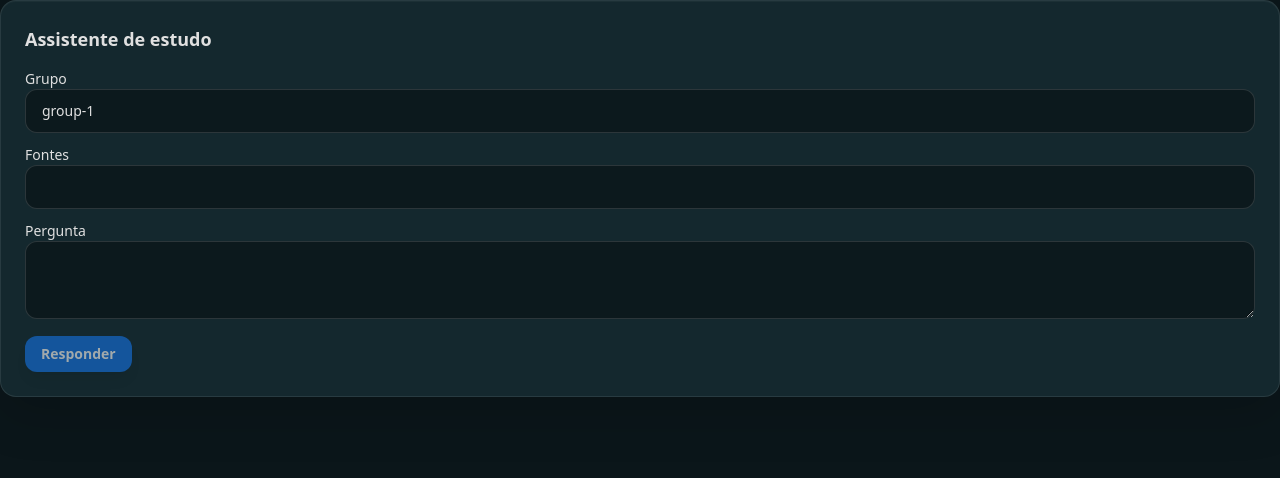
Test case: ações assíncronas dos painéis IA › mantém grupo, fontes e resposta no painel coletivo
The width and height of the screenshot is (1280, 478).
In the field labelled "Fontes": (640, 187) [25, 165, 1255, 209], type "share-1, share-2"
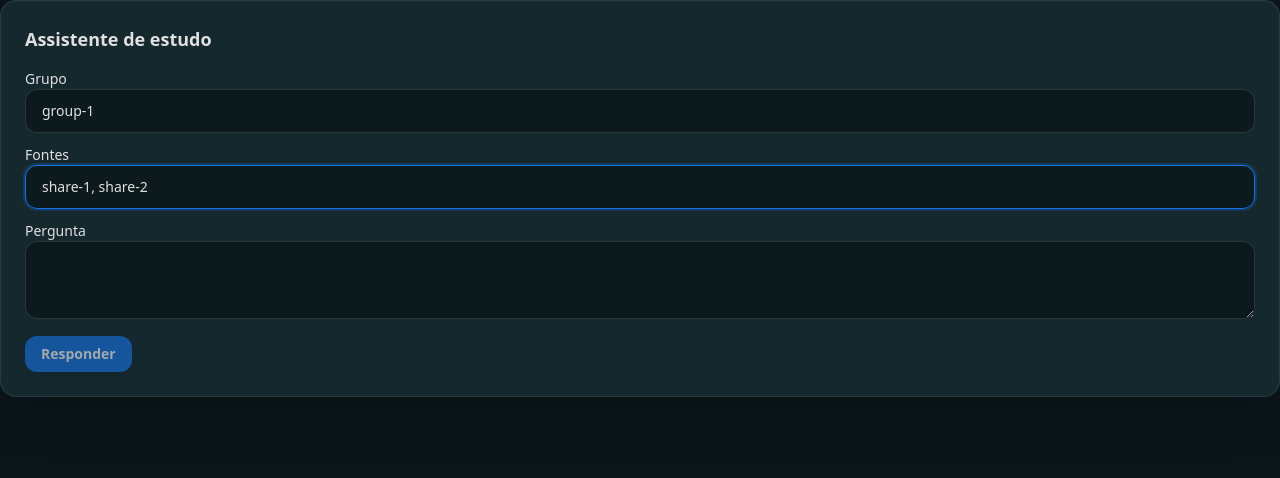
In the text box labelled "Pergunta": (640, 280) [25, 241, 1255, 319], type "Questão coletiva"
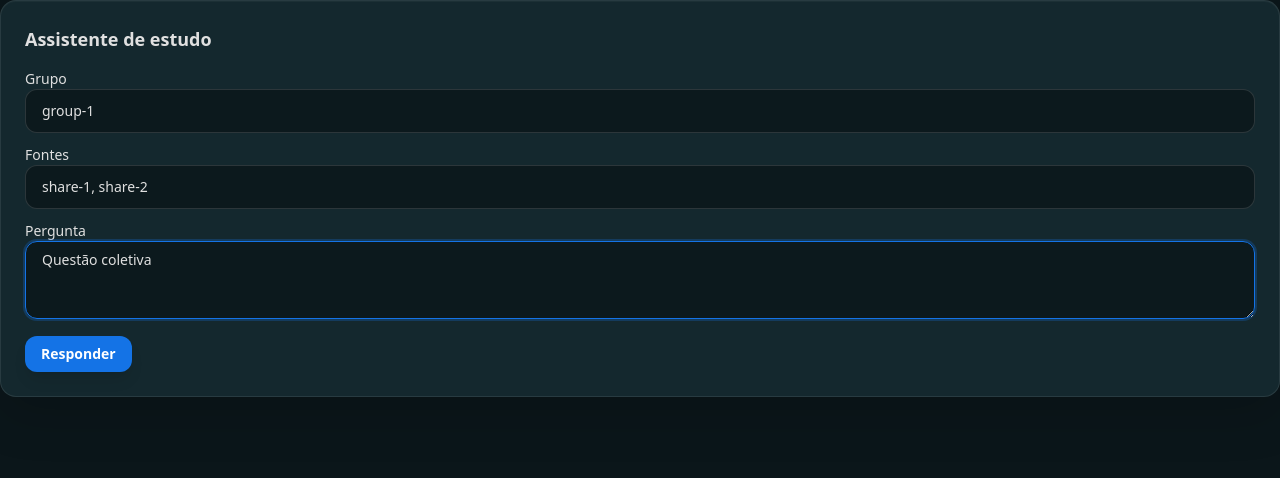
Click the button "Responder": (78, 354) [25, 336, 132, 372]
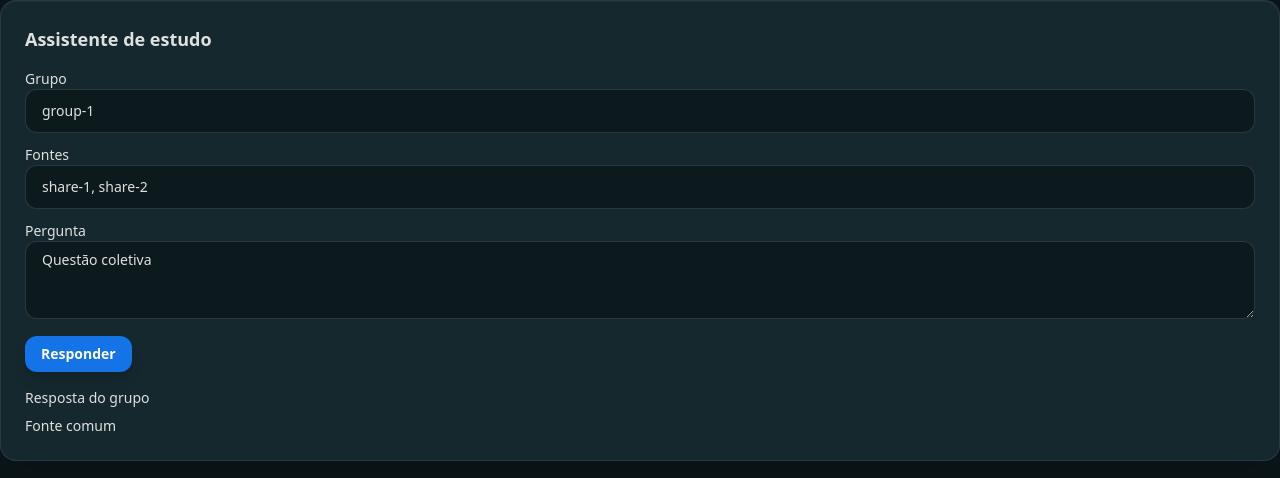
Expected: the text "Resposta do grupo" is shown, [25, 388, 150, 407]
